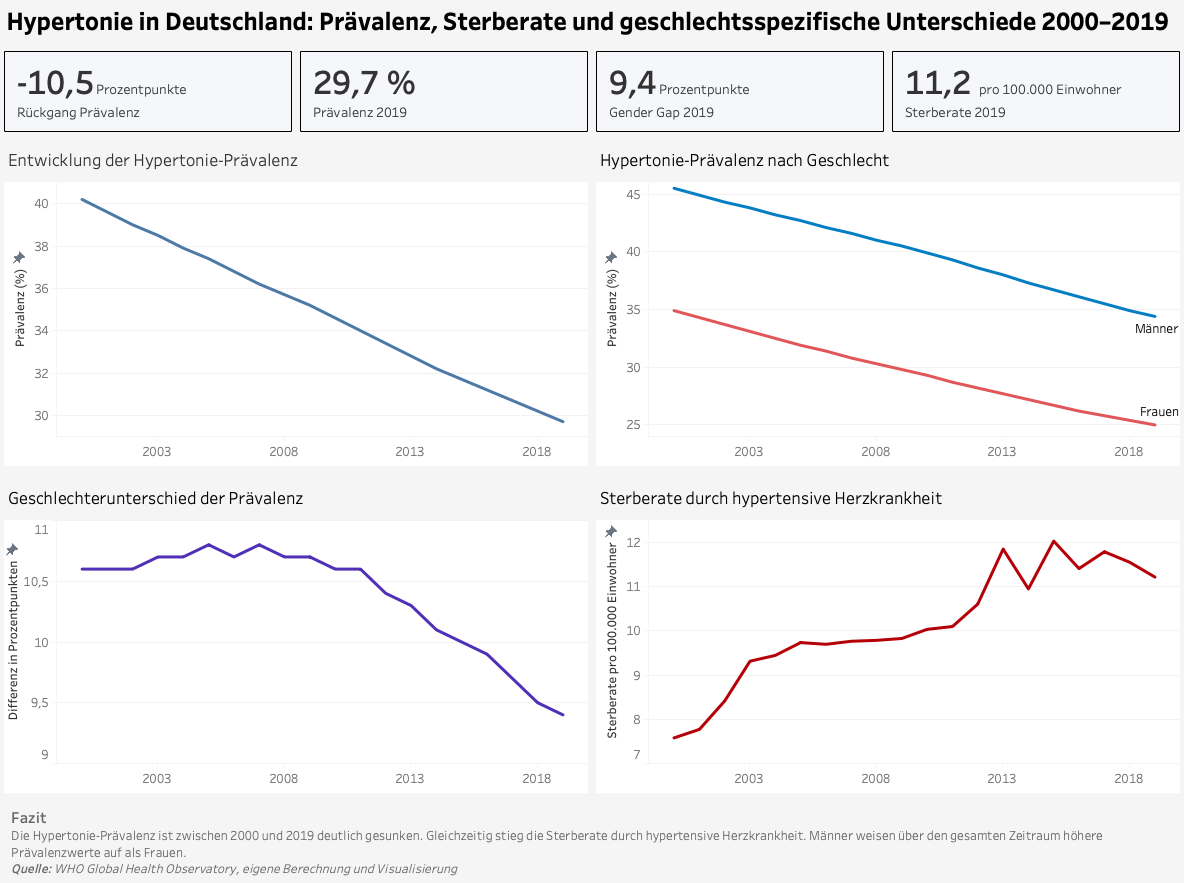

The page's visual inventory and layout, read from the dashboard file:
{"tool":"tableau","page":{"name":"Dashboard 1","canvas":[1200,900],"ordinal":0},"visuals":[{"type":"text","box":[8,8,1184,47]},{"type":"worksheet","title":"KPI Rückgang Prävalenz","mark":"Text","box":[8,55,296,89]},{"type":"worksheet","title":"KPI Prävalenz 2019","mark":"Text","box":[304,55,296,89]},{"type":"worksheet","title":"KPI Geschlechterunterschied 2019","mark":"Automatic","box":[600,55,296,89]},{"type":"worksheet","title":"KPI Sterberate 2019","mark":"Text","box":[896,55,296,89]},{"type":"worksheet","title":"Prävalenz Trend","mark":"Line","rows":["hypertension_prevalence"],"cols":["Year"],"box":[8,148,592,330]},{"type":"worksheet","title":"Prävalenz nach Geschlecht","mark":"Line","cols":["Year"],"box":[600,148,592,330]},{"type":"worksheet","title":"Prävalenz Geschlechterunterschied","mark":"Line","rows":["gender_gap_men_minus_women"],"cols":["Year"],"box":[8,486,592,319]},{"type":"worksheet","title":"Sterberate","mark":"Line","rows":["hypertensive_heart_disease_death_rate"],"cols":["Year"],"box":[600,486,592,319]},{"type":"text","box":[8,809,1184,83]}]}

Visuals, with their boxes in screenshot pixels (x1, y1, x2, y2), scaled from the page's 1200x900 canvas onto the 1184x883 screenshot:
text: left=8, top=8, right=1176, bottom=54
"KPI Rückgang Prävalenz" worksheet (Text marks): left=8, top=54, right=300, bottom=141
"KPI Prävalenz 2019" worksheet (Text marks): left=300, top=54, right=592, bottom=141
"KPI Geschlechterunterschied 2019" worksheet: left=592, top=54, right=884, bottom=141
"KPI Sterberate 2019" worksheet (Text marks): left=884, top=54, right=1176, bottom=141
"Prävalenz Trend" worksheet (Line marks): left=8, top=145, right=592, bottom=469
"Prävalenz nach Geschlecht" worksheet (Line marks): left=592, top=145, right=1176, bottom=469
"Prävalenz Geschlechterunterschied" worksheet (Line marks): left=8, top=477, right=592, bottom=790
"Sterberate" worksheet (Line marks): left=592, top=477, right=1176, bottom=790
text: left=8, top=794, right=1176, bottom=875
